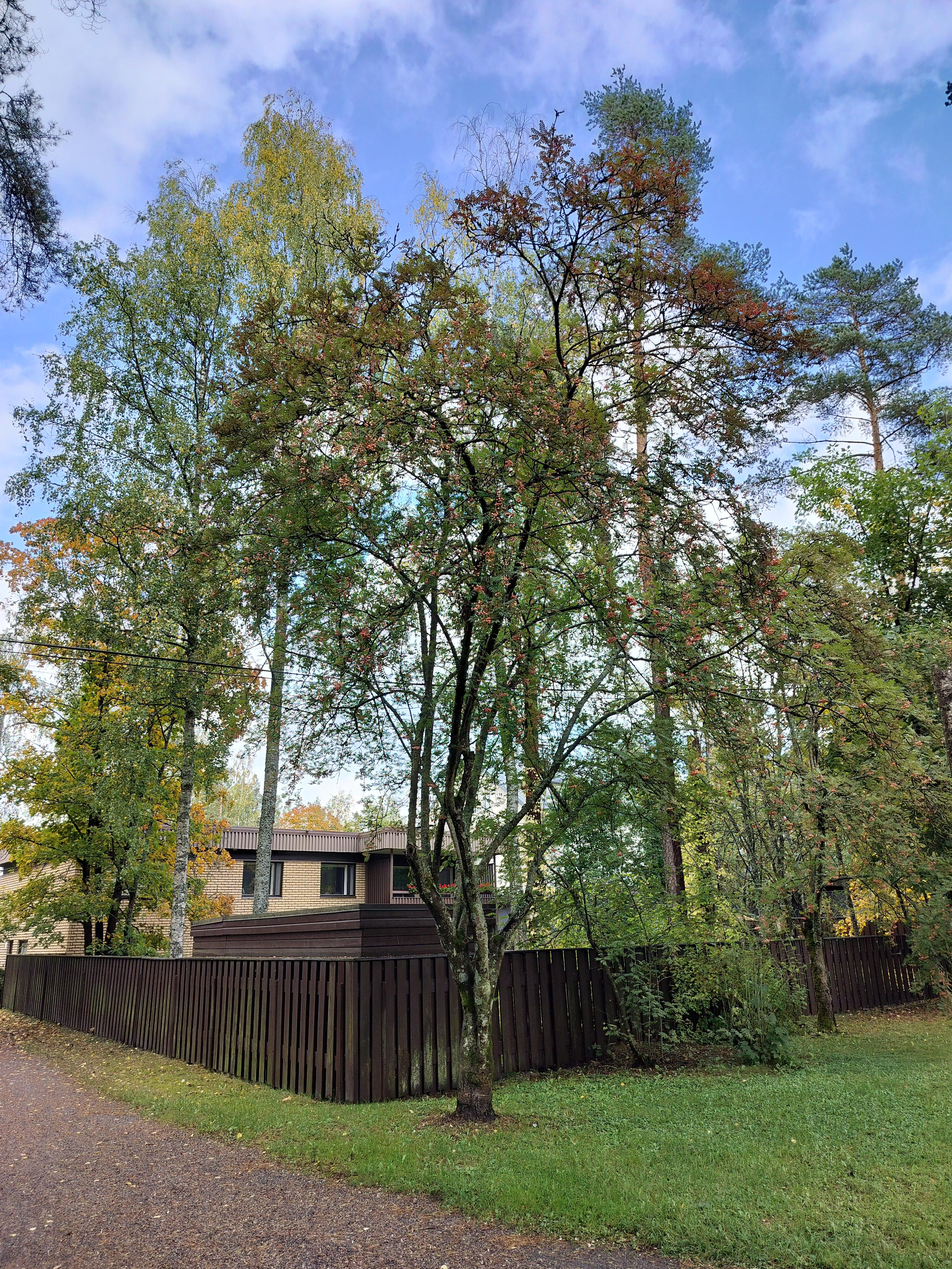Rowan: (237, 196, 809, 1113)
